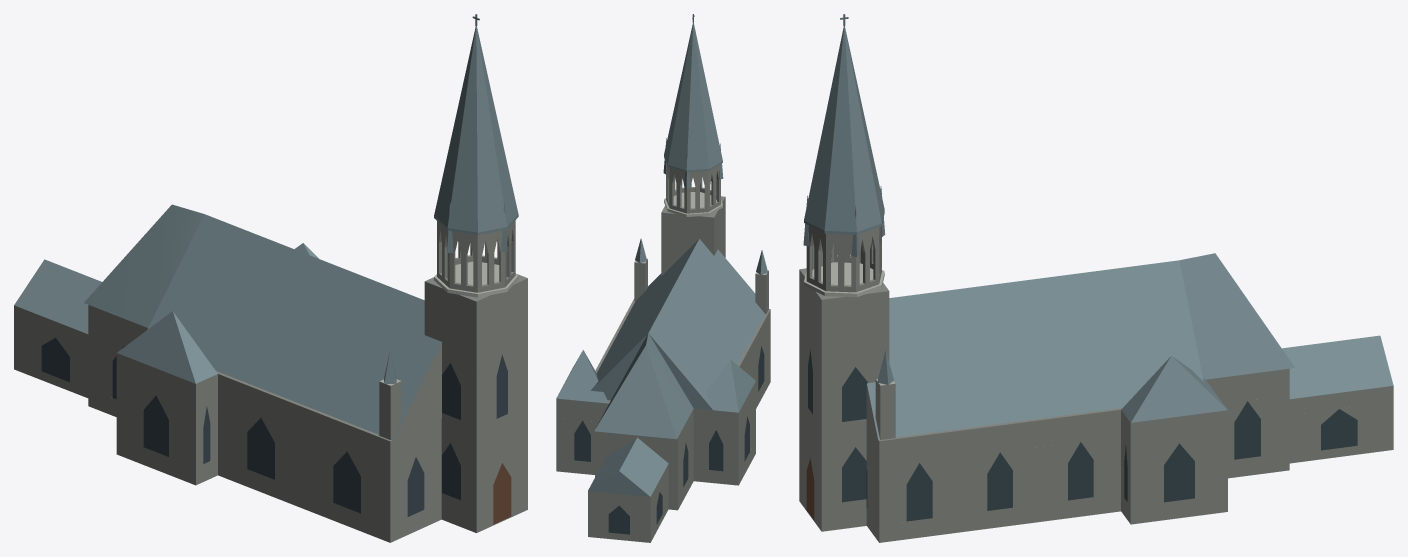
The model's file is eglise-saint-joachim-pointe-claire-far.glb.
The picture shows the model from 3 angles, left to right: view 1: azimuth 30°, elevation 25°; view 2: azimuth 150°, elevation 25°; view 3: azimuth 270°, elevation 25°; orthographic projection. The views are drawn at different scales.
Parts seen in each view (by area): view 1: eglise-saint-joachim-pointe-claire-0-stone, eglise-saint-joachim-pointe-claire-0-roof, eglise-saint-joachim-pointe-claire-0-glass, eglise-saint-joachim-pointe-claire-0-trim, eglise-saint-joachim-pointe-claire-0-door; view 2: eglise-saint-joachim-pointe-claire-0-roof, eglise-saint-joachim-pointe-claire-0-stone, eglise-saint-joachim-pointe-claire-0-glass, eglise-saint-joachim-pointe-claire-0-trim; view 3: eglise-saint-joachim-pointe-claire-0-roof, eglise-saint-joachim-pointe-claire-0-stone, eglise-saint-joachim-pointe-claire-0-glass, eglise-saint-joachim-pointe-claire-0-trim.
Part boxes in pixels (x1,y1,x2,y2): eglise-saint-joachim-pointe-claire-0-stone: (14, 220, 527, 542); eglise-saint-joachim-pointe-claire-0-roof: (14, 26, 518, 439); eglise-saint-joachim-pointe-claire-0-glass: (41, 337, 507, 516); eglise-saint-joachim-pointe-claire-0-trim: (379, 261, 518, 385); eglise-saint-joachim-pointe-claire-0-door: (493, 463, 511, 524); eglise-saint-joachim-pointe-claire-0-roof: (556, 22, 768, 496); eglise-saint-joachim-pointe-claire-0-stone: (556, 164, 770, 542); eglise-saint-joachim-pointe-claire-0-glass: (574, 346, 764, 534); eglise-saint-joachim-pointe-claire-0-trim: (635, 192, 768, 274); eglise-saint-joachim-pointe-claire-0-roof: (803, 26, 1393, 439); eglise-saint-joachim-pointe-claire-0-stone: (799, 226, 1393, 542); eglise-saint-joachim-pointe-claire-0-glass: (808, 349, 1357, 521); eglise-saint-joachim-pointe-claire-0-trim: (804, 262, 894, 385).
Size of the model in its own units: 32.28 by 55.8 by 60.39.
